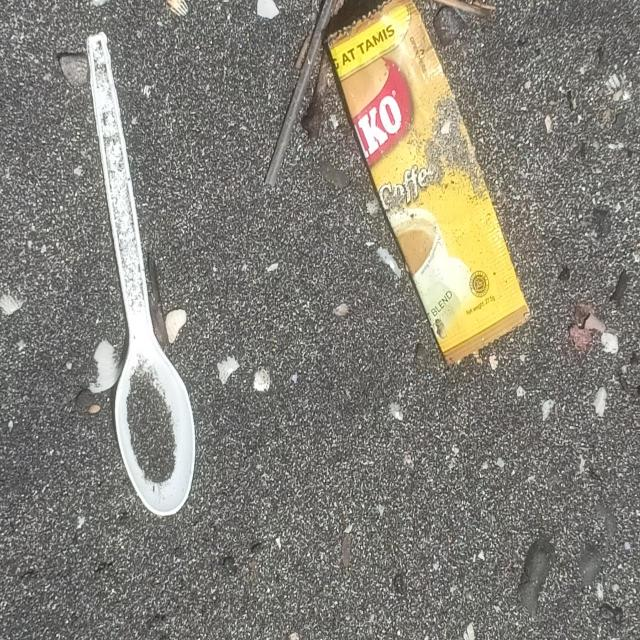plastic_waste: (323, 1, 537, 371), (265, 1, 341, 190)
